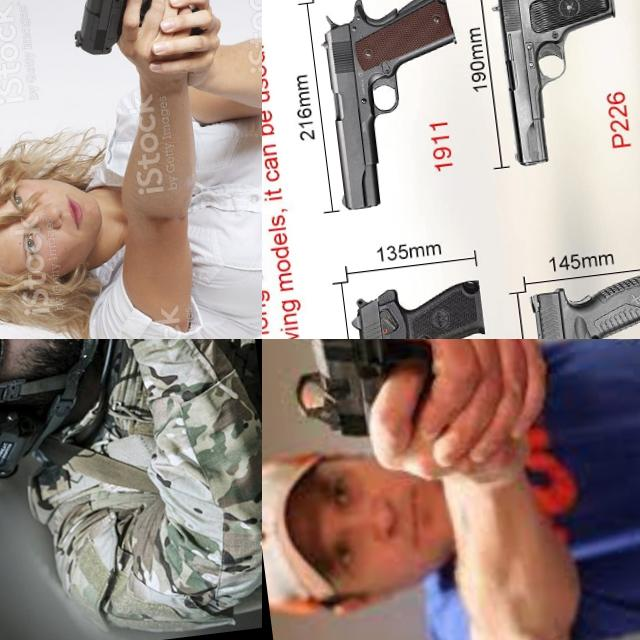handgun: (314, 0, 479, 211), (485, 0, 635, 168), (277, 339, 443, 449), (23, 339, 156, 435), (344, 272, 504, 339), (523, 271, 640, 339), (58, 0, 165, 64)
